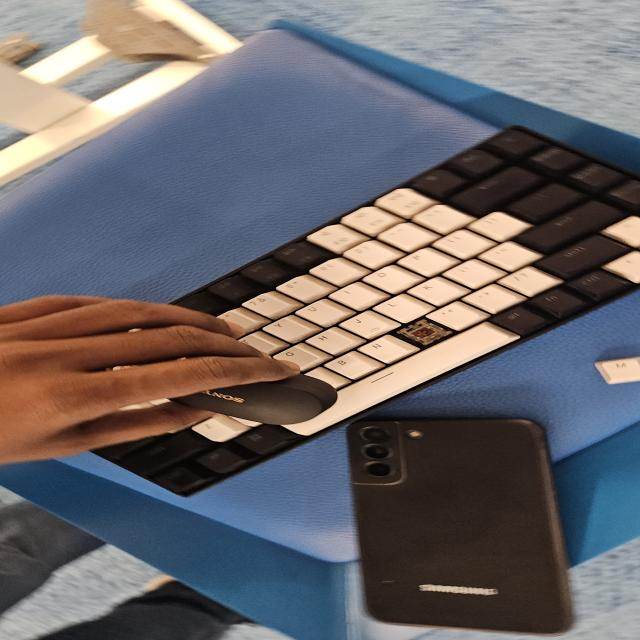C: (409, 323, 451, 348), (402, 326, 444, 341), (409, 326, 441, 345)
